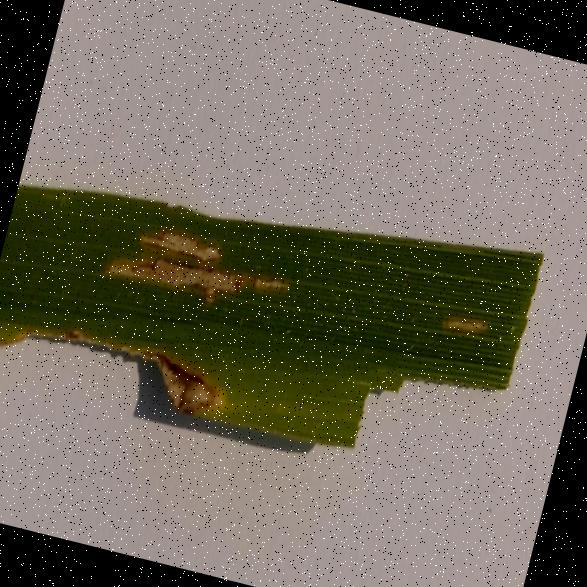Bacteria_Leaf_Blight: (88, 194, 326, 342), (419, 268, 519, 376)
